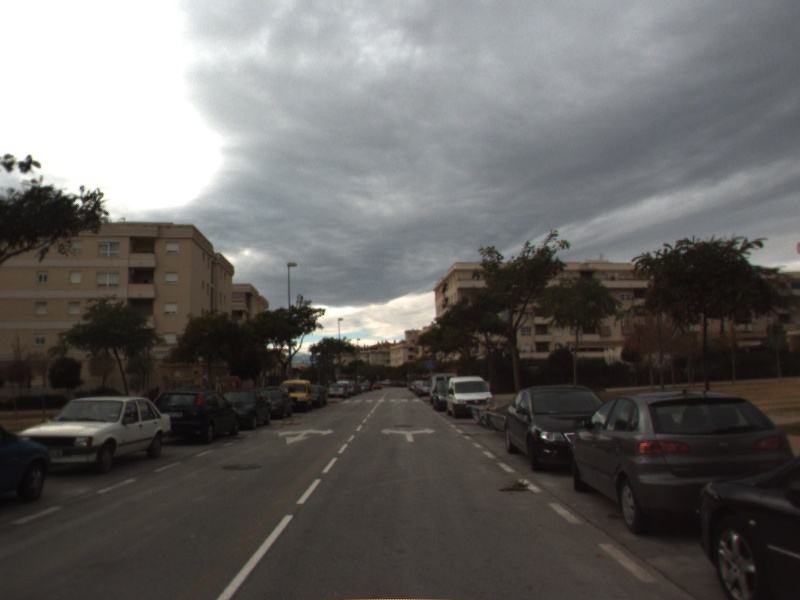LEFT_RIGHT: (378, 425, 438, 444)
